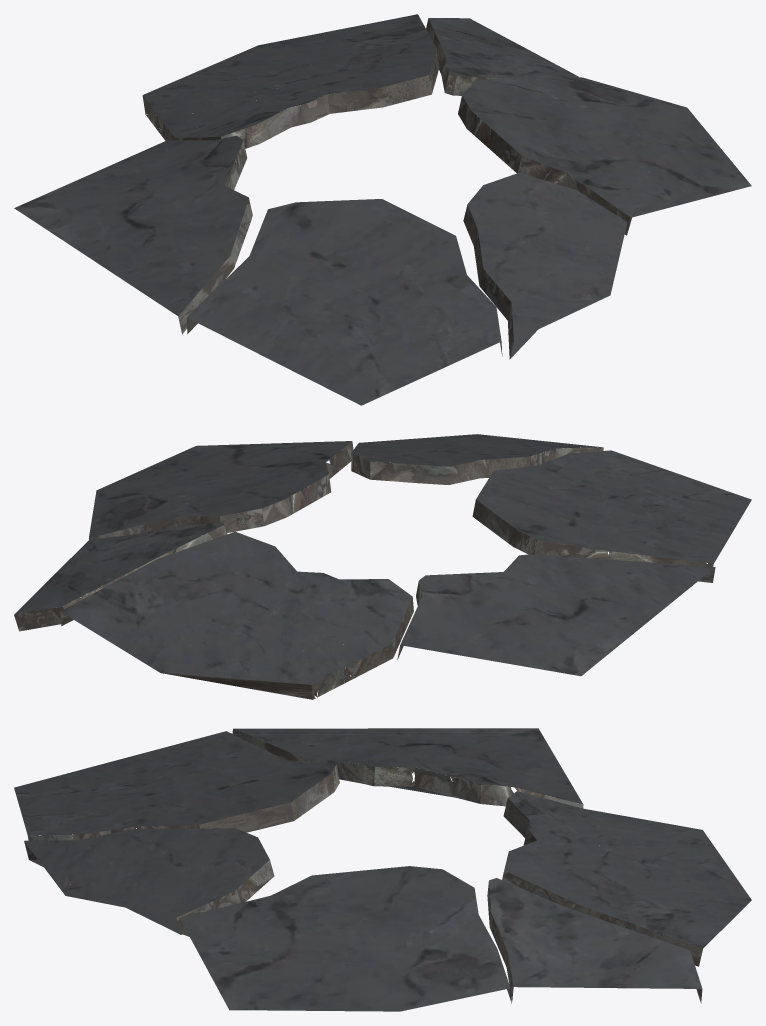
3 views of the same model, one above another, from view 1: azimuth 30°, elevation 25°; view 2: azimuth 150°, elevation 25°; view 3: azimuth 270°, elevation 25° (orthographic). The views are drawn at different scales.
Visible parts, largest first — view 1: SM_Kuldra_Floor_Dmg_05_LOD0; view 2: SM_Kuldra_Floor_Dmg_05_LOD0; view 3: SM_Kuldra_Floor_Dmg_05_LOD0.
Boxes of the visible parts, x1,y1,x2,y2 form: SM_Kuldra_Floor_Dmg_05_LOD0: (14,14,751,405); SM_Kuldra_Floor_Dmg_05_LOD0: (14,434,751,699); SM_Kuldra_Floor_Dmg_05_LOD0: (14,728,751,1011).
Size of the model in its own units: 3.39 by 0.3901 by 3.67.
2 materials, 2 textured.
